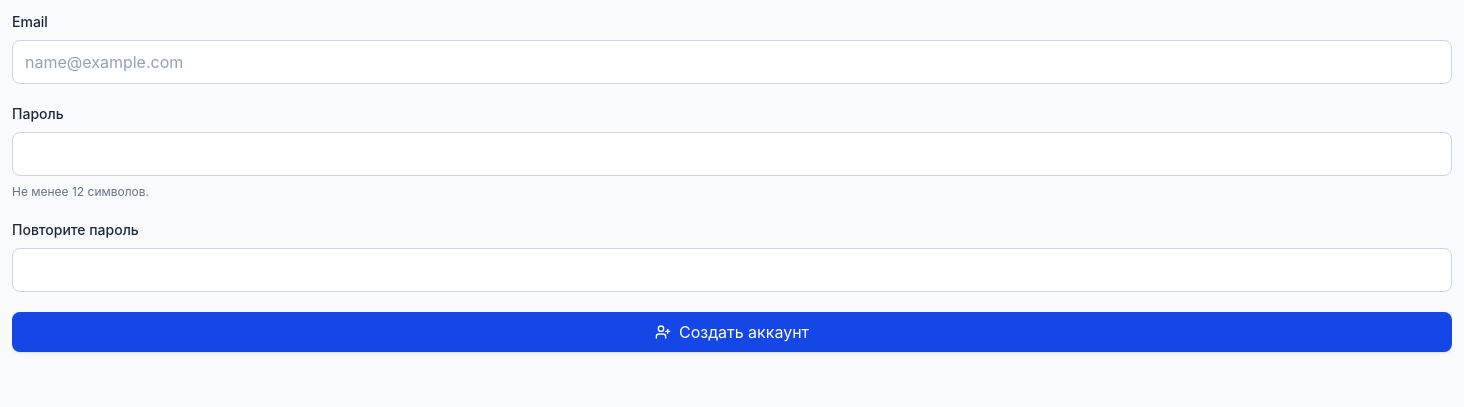
Scenario: RegisterForm › не отправляет несовпадающие пароли и очищает их
Type "engineer@example.com" into the field labelled "Email" at (732,62), box [12, 40, 1452, 84]
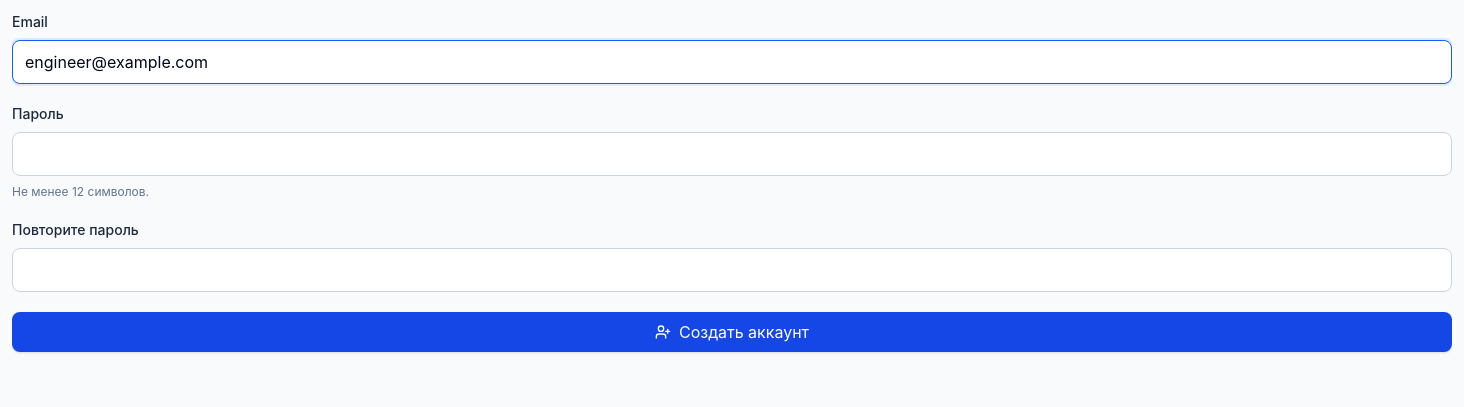
Type "Strong-password-2026" into the password field labelled "Пароль" at (732,154), box [12, 132, 1452, 176]
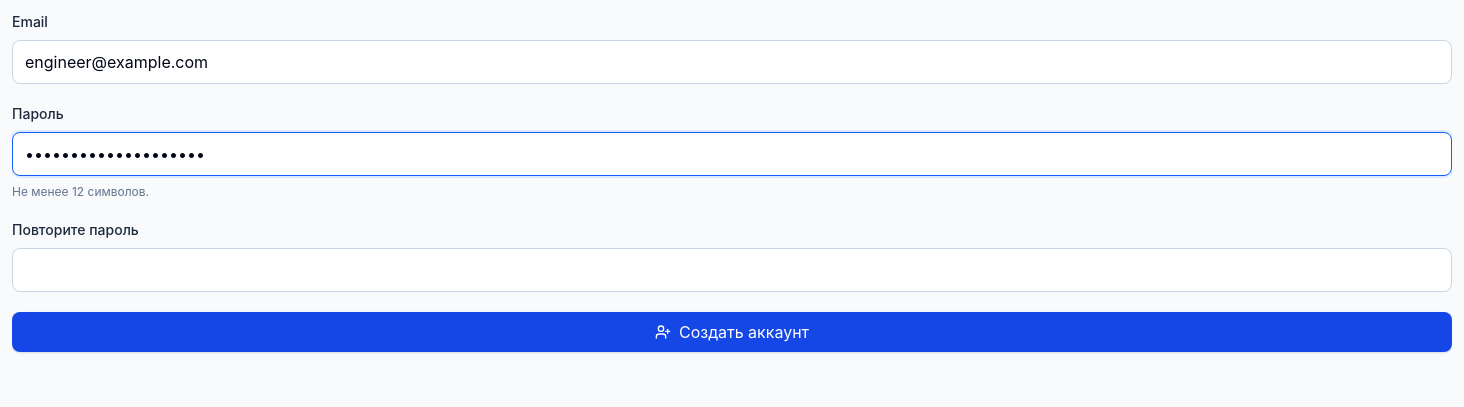
Type "Different-password-2026" into the password field labelled "Повторите пароль" at (732,270), box [12, 248, 1452, 292]
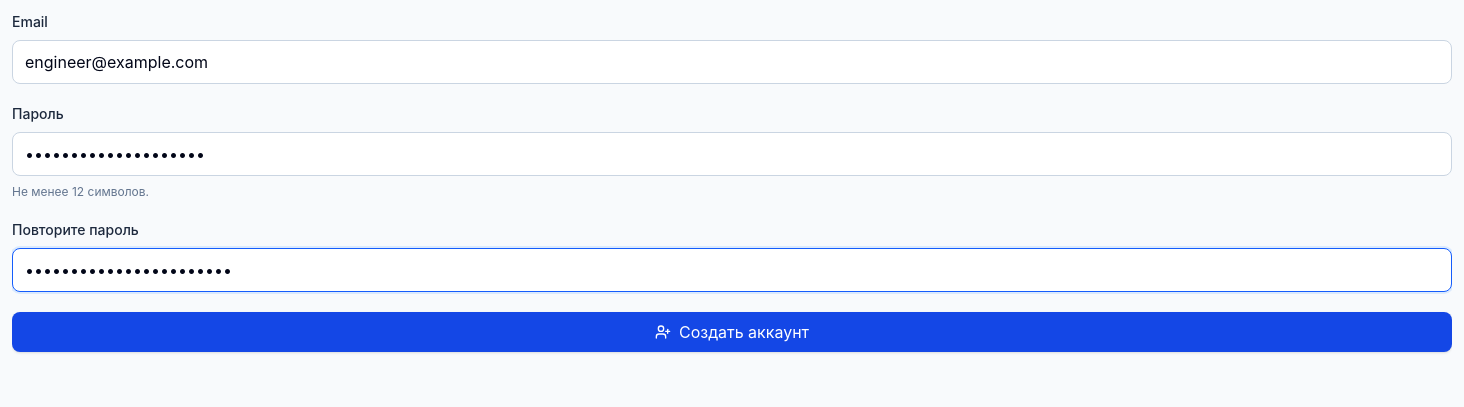
Click the button "Создать аккаунт" at (732,332), box [12, 312, 1452, 352]
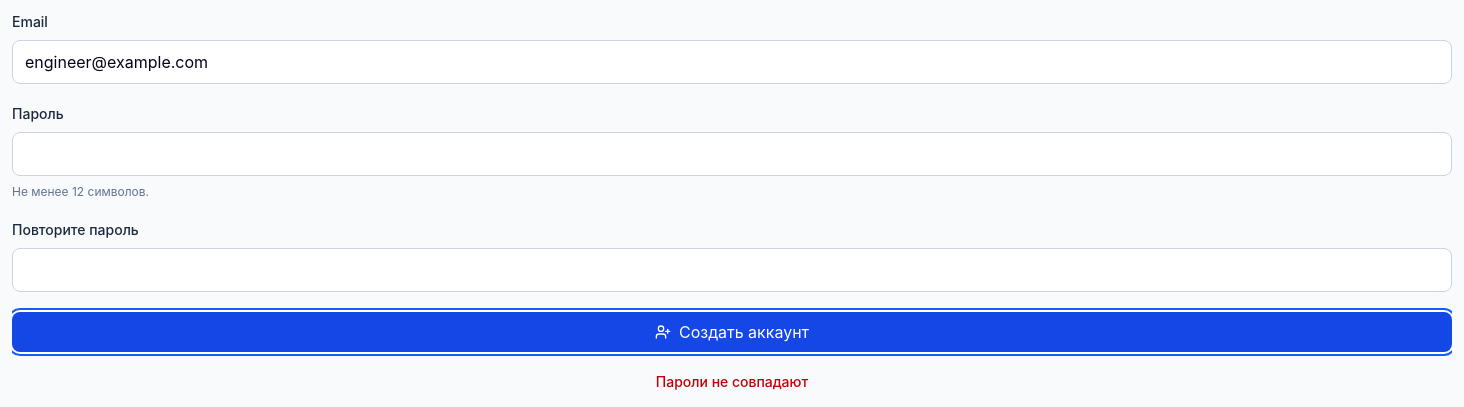
Result: the message reads "Пароли не совпадают" at [656, 373, 808, 390]
Result: the password field labelled "Пароль" is empty at [12, 132, 1452, 176]
Result: the password field labelled "Повторите пароль" is empty at [12, 248, 1452, 292]
